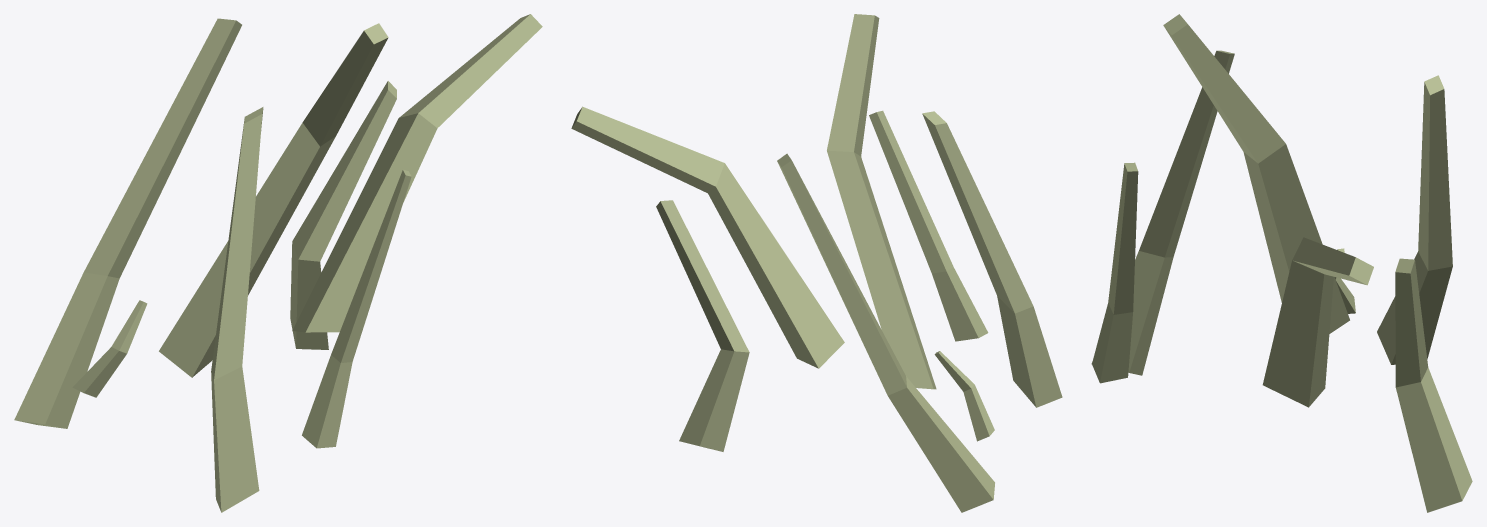
Rendered from Carrot_Dry_1.fbx.
3 renders of one model, left to right at view 1: azimuth 30°, elevation 25°; view 2: azimuth 150°, elevation 25°; view 3: azimuth 270°, elevation 25°, orthographic. The views are drawn at different scales.
Visible parts, largest first — view 1: 1_Dry_Carrot; view 2: 1_Dry_Carrot; view 3: 1_Dry_Carrot.
Boxes of the visible parts, box(x1,y1,x2,y2) form: 1_Dry_Carrot: box(14, 14, 542, 512); 1_Dry_Carrot: box(571, 14, 1062, 512); 1_Dry_Carrot: box(1091, 14, 1472, 512).
Bounding box in the file's own units: 4.21 × 3.43 × 2.58.
